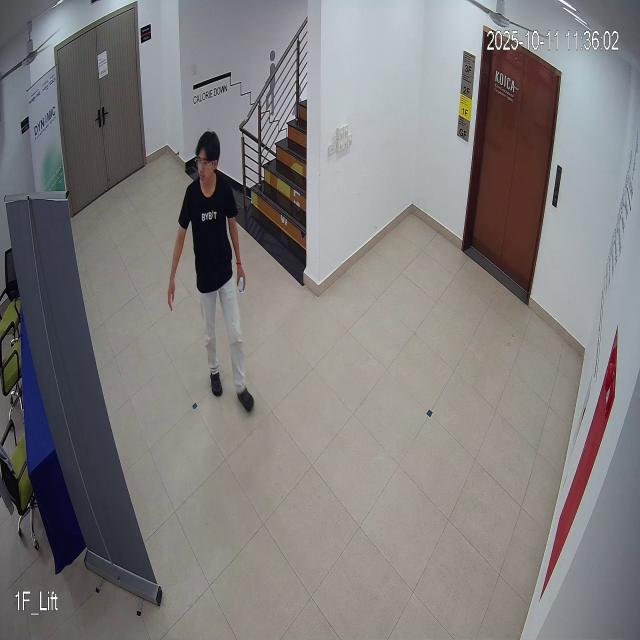face: (194, 122, 220, 194)
